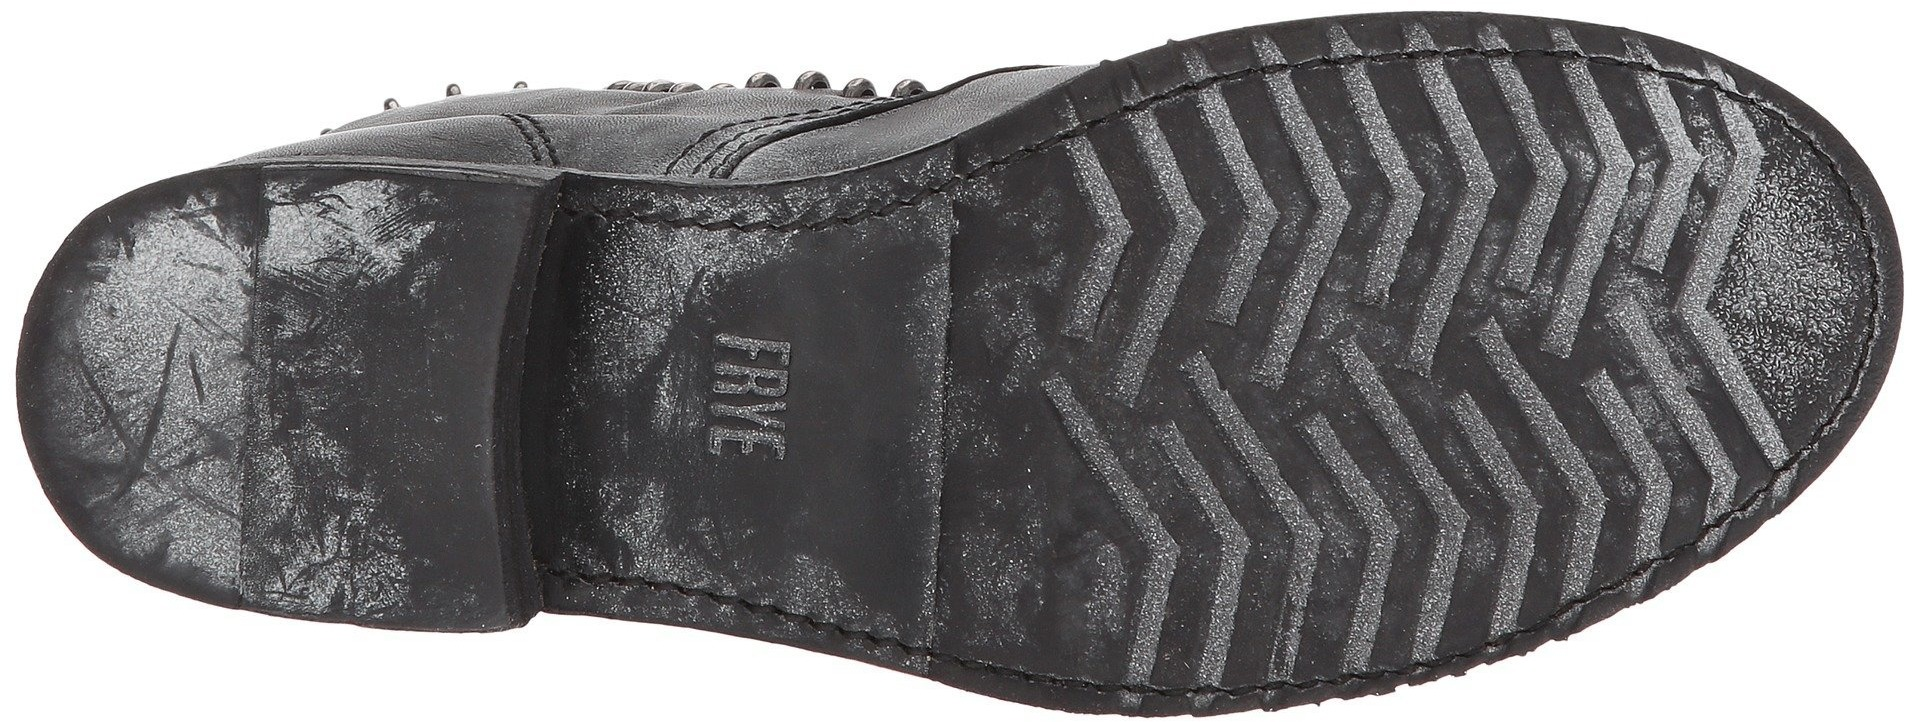chevron: (1083, 396, 1346, 665), (1351, 326, 1602, 583), (1318, 70, 1560, 302), (1066, 149, 1316, 362), (1619, 278, 1808, 463), (1568, 87, 1740, 273)
text: (672, 327, 834, 470)
